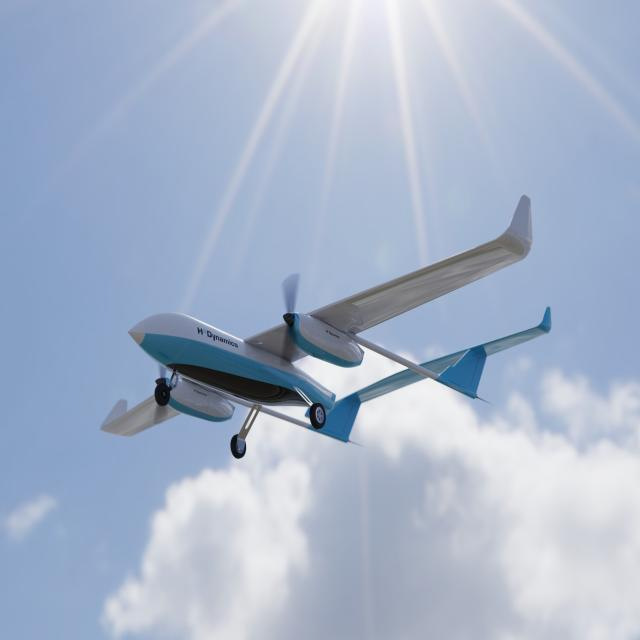iha: (65, 184, 579, 467)
